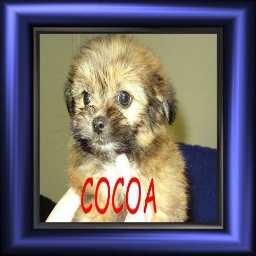dog: (68, 42, 191, 223)
